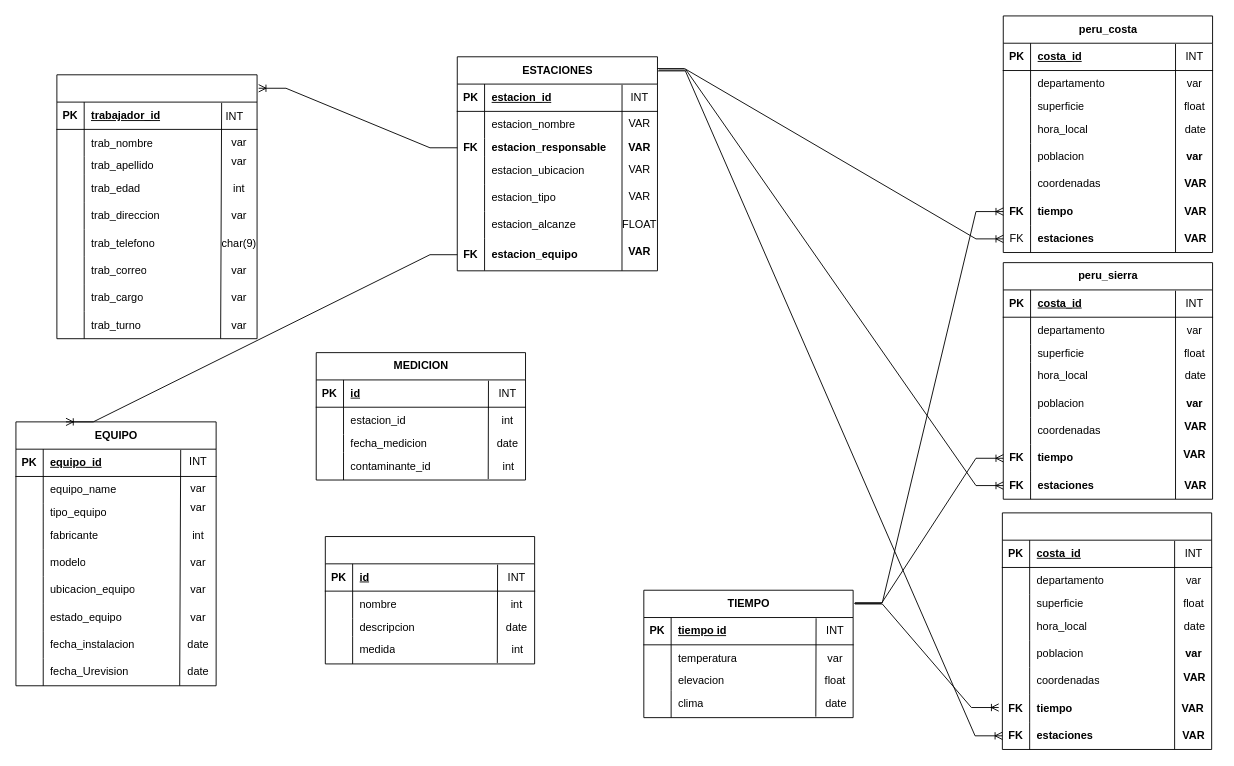
Image size: 1234x766. Some labels were removed from this diagram. Here are the shapes that lost their labels. From the top down, the box of each, then its label:
(56, 74, 257, 339): TRABAJADORES
(324, 536, 535, 664): CONTAMINANTE
(1001, 512, 1212, 749): peru_selva
